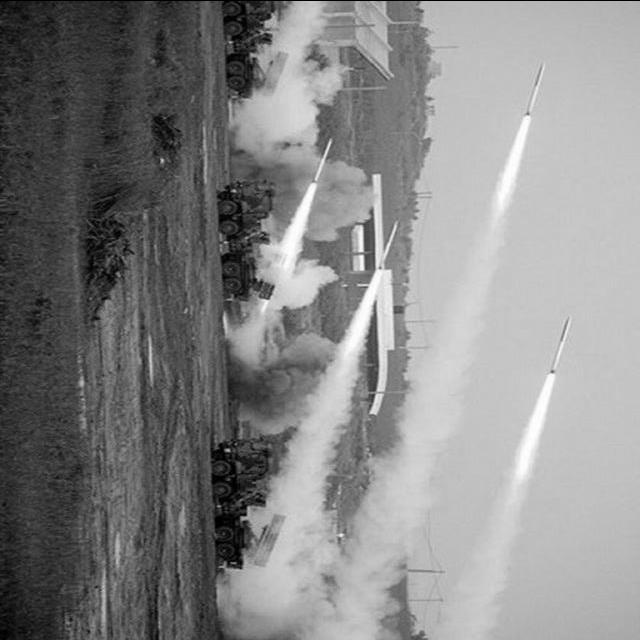missile: (531, 315, 576, 375), (374, 219, 398, 274), (312, 137, 335, 185), (528, 61, 544, 116)
